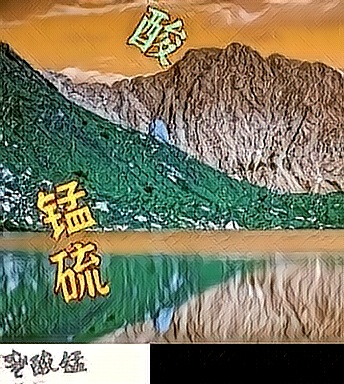C1F2: (49, 240, 114, 304)
C3CC: (36, 177, 101, 241)
CBE1: (123, 4, 188, 68)
